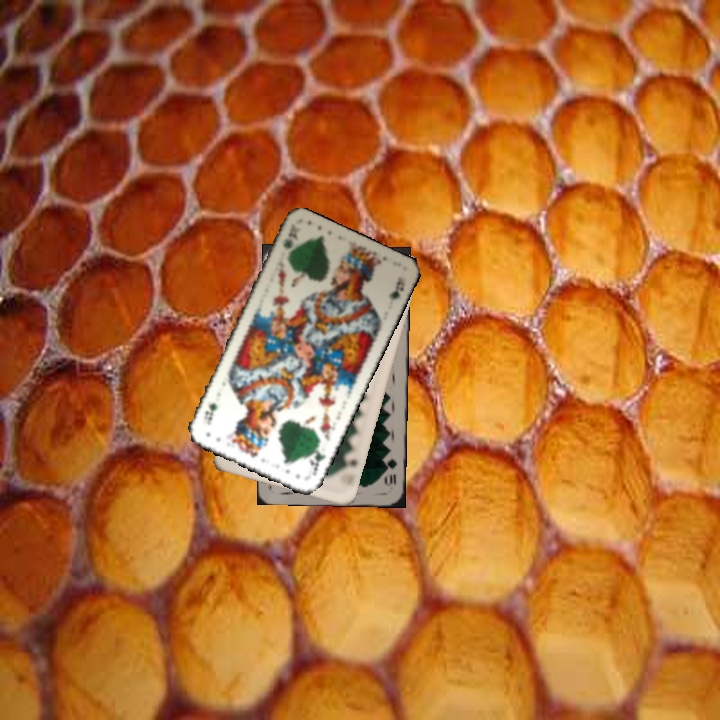G10: (381, 454, 399, 488), (339, 448, 360, 473)
GK: (306, 439, 328, 478), (279, 220, 303, 252)
